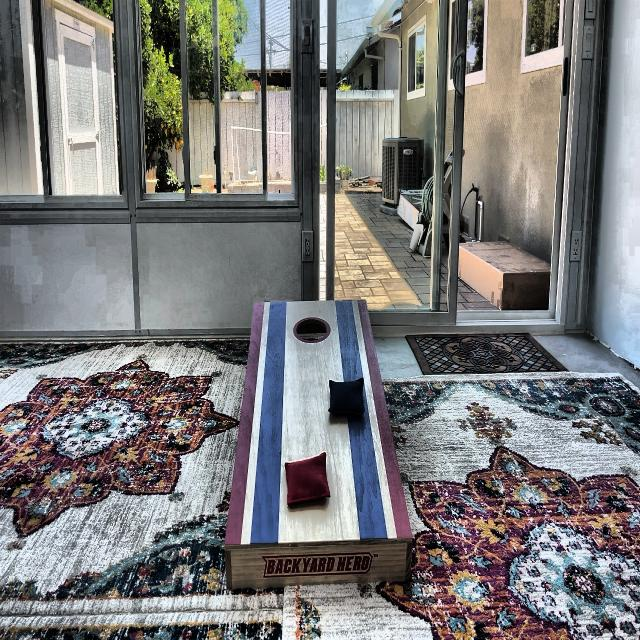blue-bean-bag: (328, 377, 366, 418)
board: (249, 301, 374, 543)
hole: (293, 316, 331, 343)
red-bean-bag: (285, 451, 330, 506)
